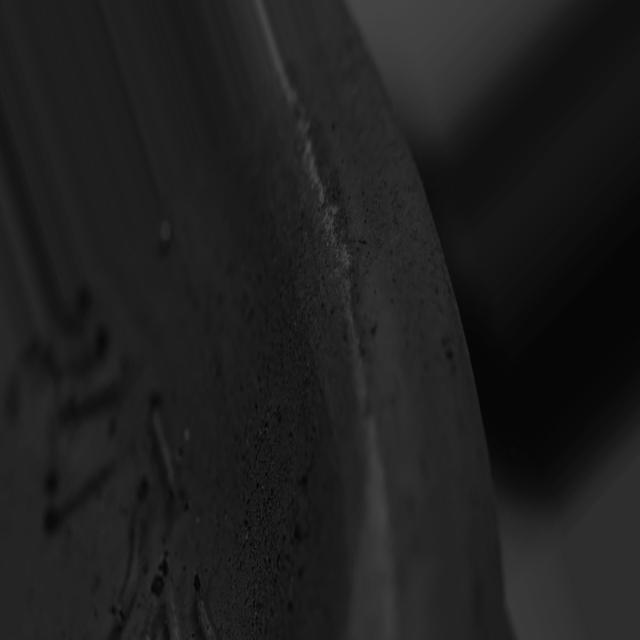larvas: (44, 416, 120, 529), (112, 483, 157, 624), (148, 391, 188, 517), (69, 347, 131, 417), (36, 320, 109, 358), (188, 567, 218, 638), (161, 559, 185, 640), (45, 406, 64, 490), (141, 576, 163, 639)
